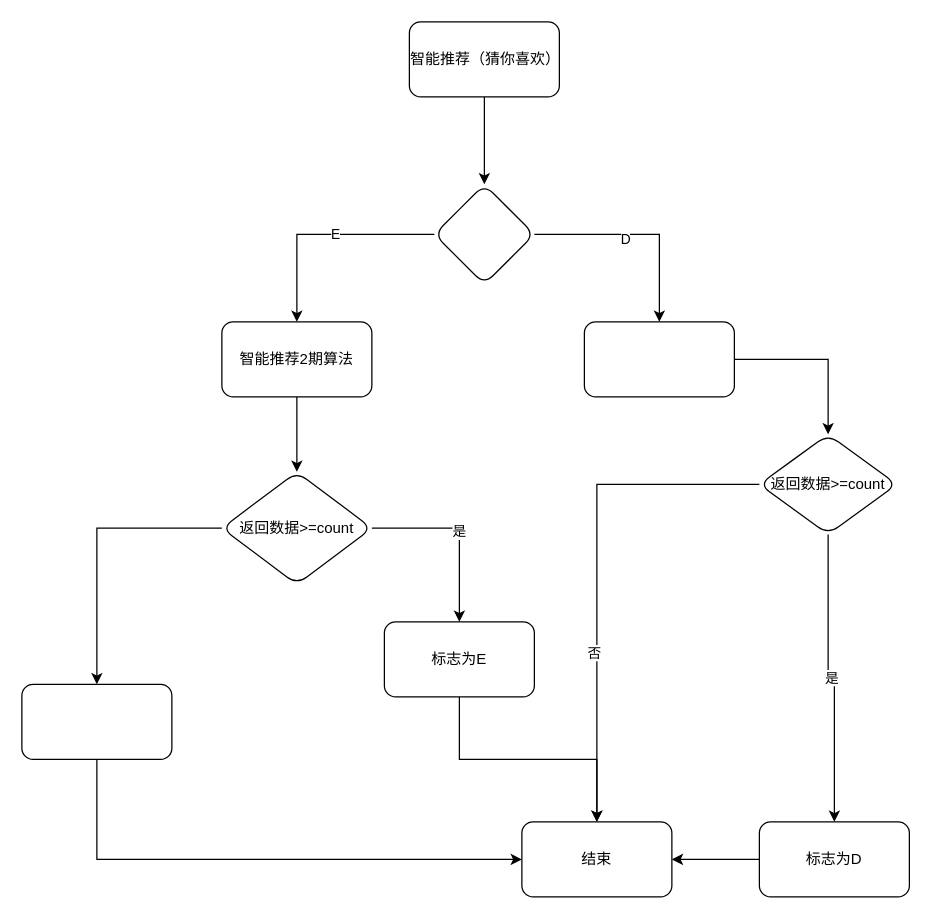
Image size: 931x919. Some labels were removed from this diagram. The box of each missing label's shape, as (x1, y1, x2, y2) in pixels:
D/E?: (433, 183, 534, 284)
智能推荐1期算法: (583, 321, 734, 397)
标志为F展示运营配置数据: (21, 683, 172, 759)
